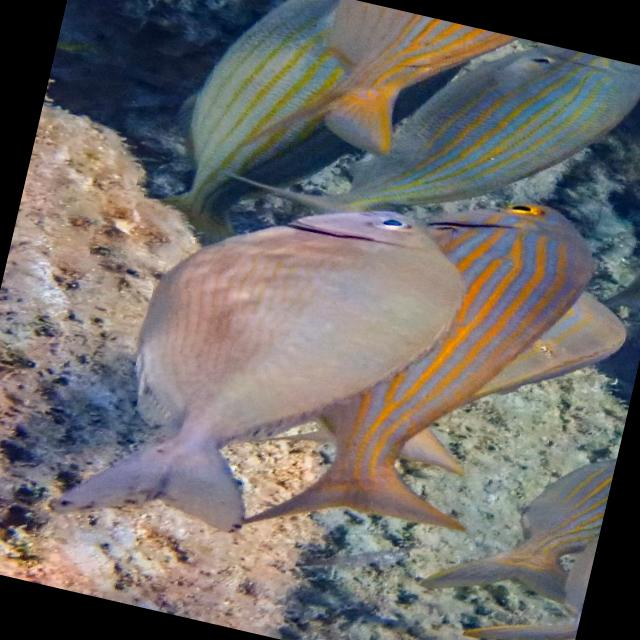Sokar Baligi: (8, 133, 494, 599)
